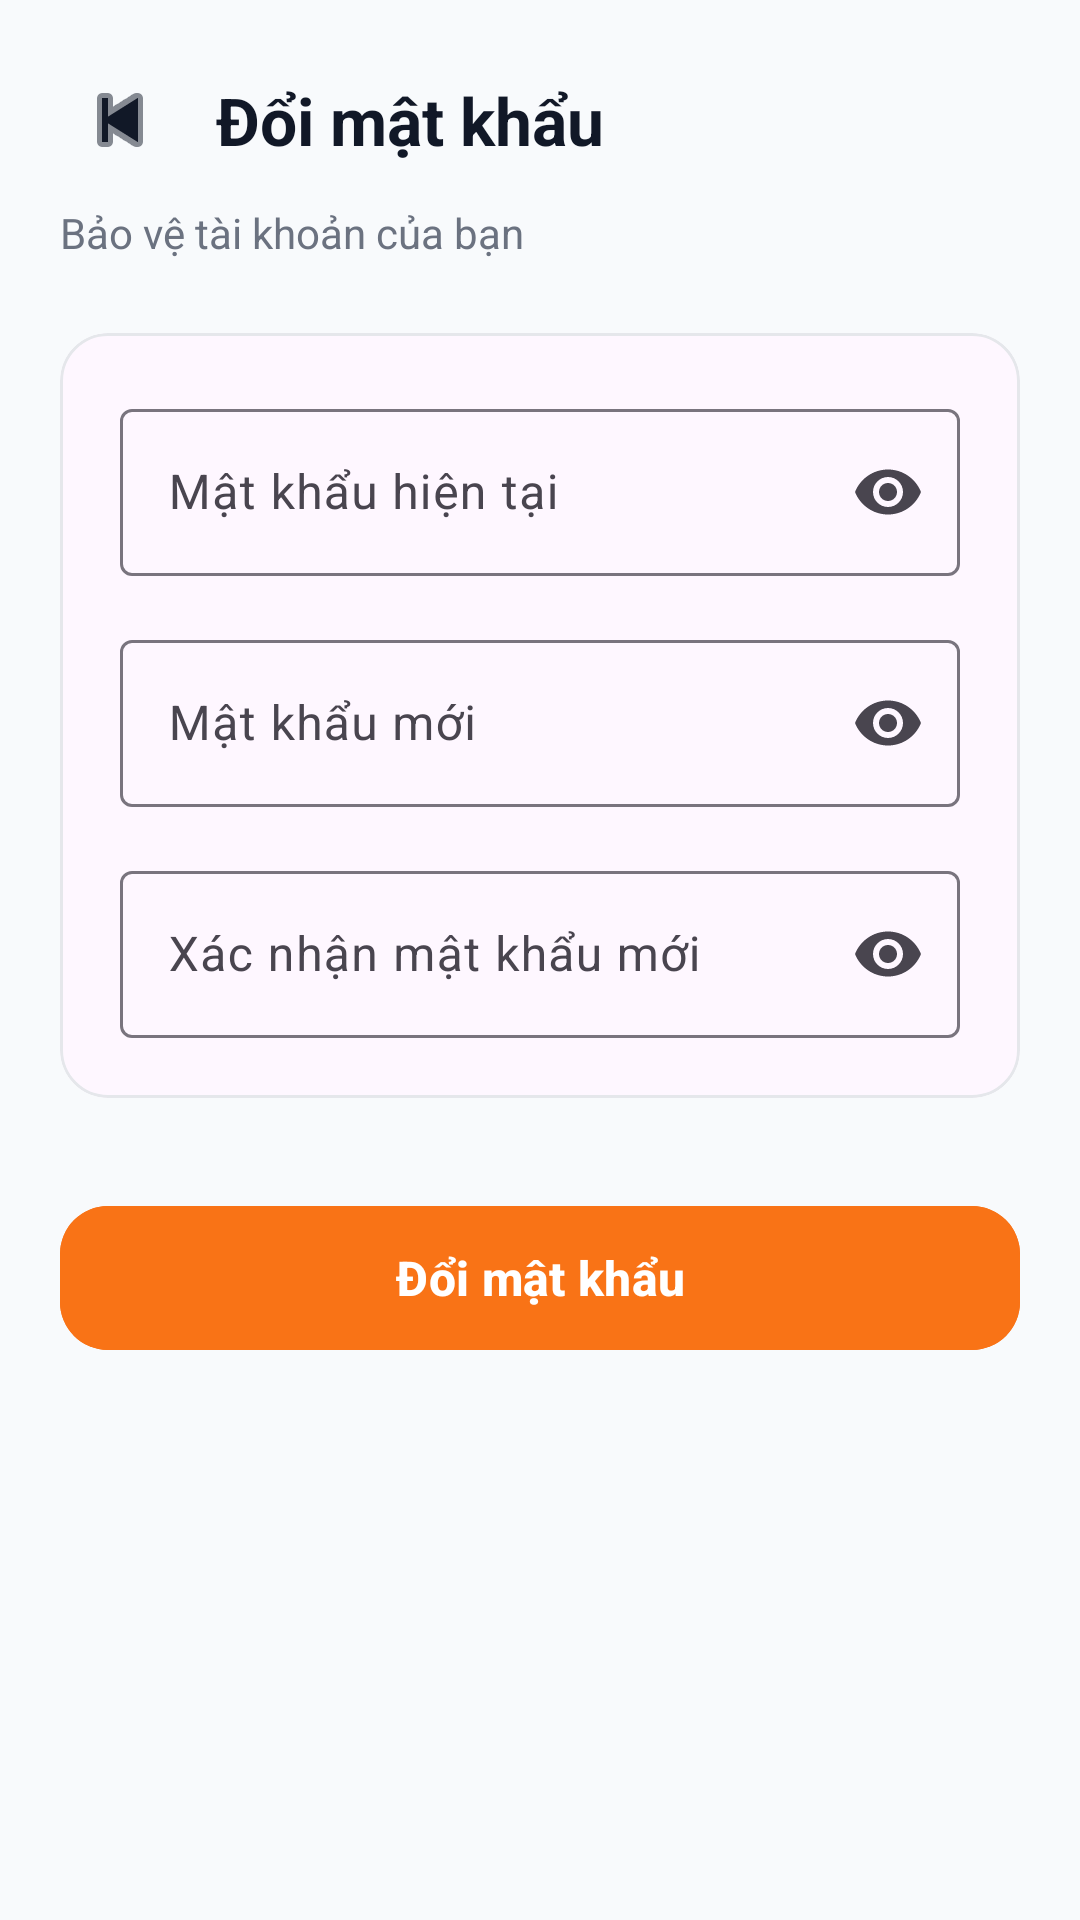

Where icons sit on this 1080px x 1920px app screen, as bbox=(x1, y1, x2, y2):
Quay lại: bbox=(97, 93, 143, 147)
